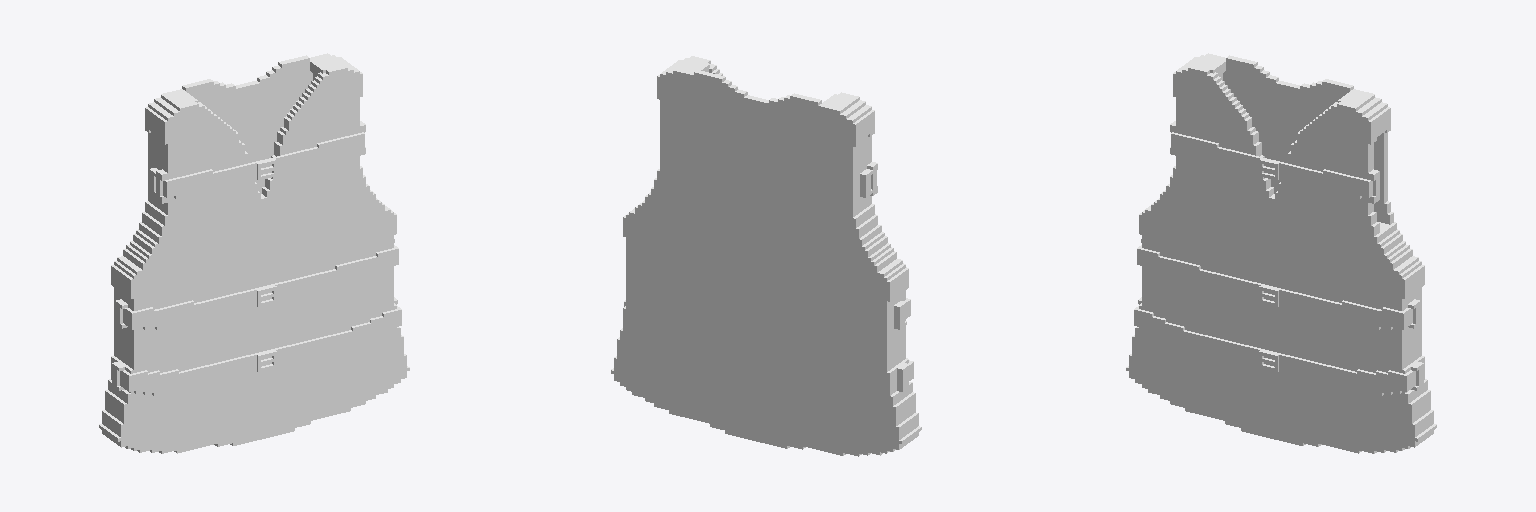
File: ColeteSalvaVidas.obj
3 renders of one model, left to right at view 1: azimuth 30°, elevation 25°; view 2: azimuth 150°, elevation 25°; view 3: azimuth 330°, elevation 25°, orthographic.
Visible parts, largest first — view 1: object 1; view 2: object 1; view 3: object 1.
Boxes of the visible parts, x1=… form: object 1: x1=99, y1=53, x2=409, y2=453; object 1: x1=611, y1=56, x2=921, y2=456; object 1: x1=1126, y1=53, x2=1436, y2=453.
Size of the model in its own units: 9.4 by 10.9 by 1.3.